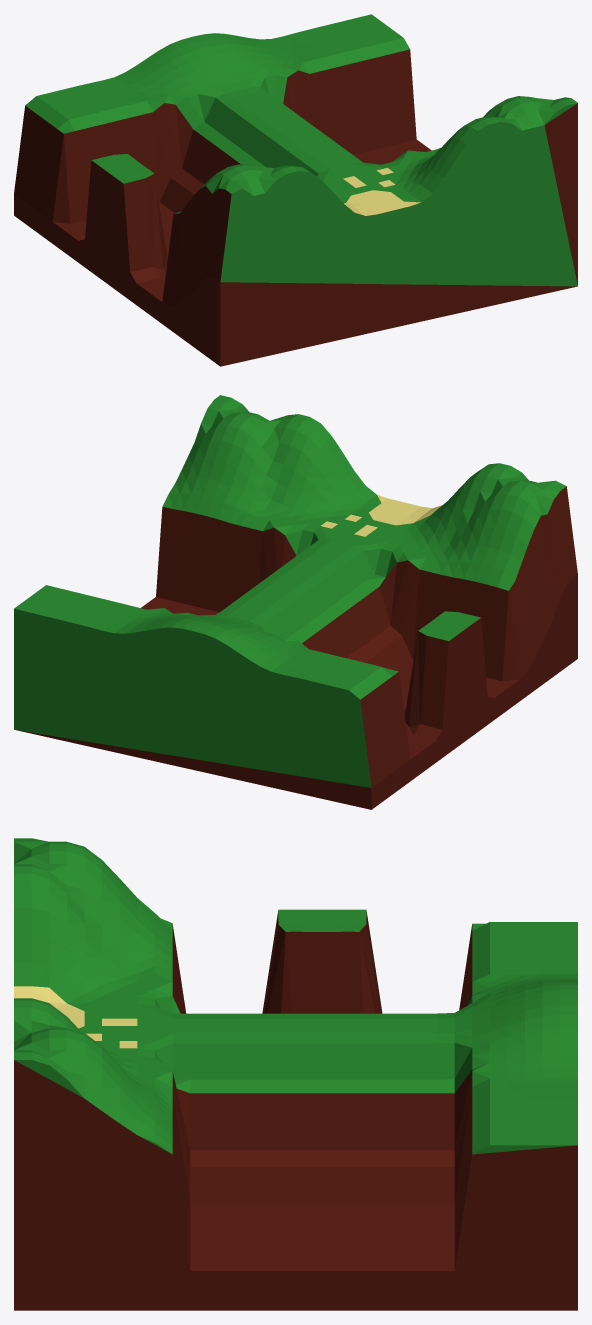
Rendered from Terrain - puzzle tutorial2.fbx.
3 views of the same model, one above another, from view 1: azimuth 30°, elevation 25°; view 2: azimuth 150°, elevation 25°; view 3: azimuth 270°, elevation 25° (orthographic). The views are drawn at different scales.
Visible parts, largest first — view 1: tutorial2 triangilated; view 2: tutorial2 triangilated; view 3: tutorial2 triangilated.
Part boxes in pixels (x1,y1,x2,y2): tutorial2 triangilated: [14, 14, 577, 366]; tutorial2 triangilated: [14, 395, 577, 809]; tutorial2 triangilated: [14, 838, 577, 1310].
Size of the model in its own units: 5000 by 2453 by 5000.
